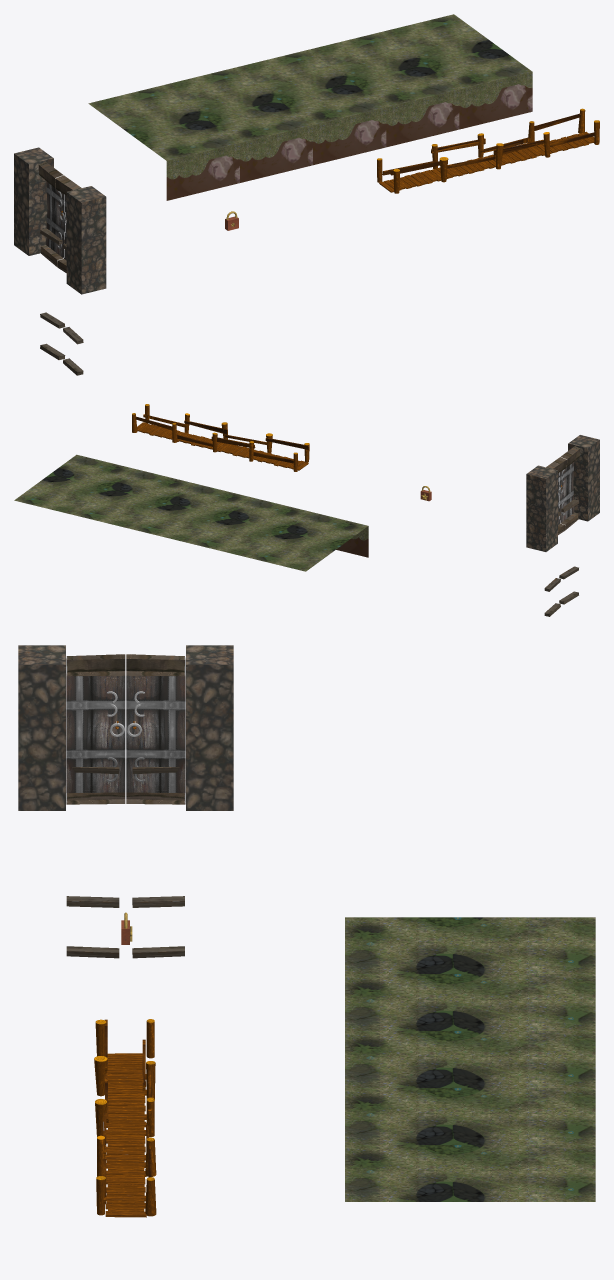
The model's file is door.fbx.
3 views of the same model, one above another, from view 1: azimuth 30°, elevation 25°; view 2: azimuth 150°, elevation 25°; view 3: azimuth 270°, elevation 25° (orthographic). The views are drawn at different scales.
Visible parts, largest first — view 1: ground5, ground1, ground4, ground3, ground2, pCube24, pCube30, polySurface24, polySurface37; view 2: ground1, ground5, ground3, ground2, ground4, pCube30, pCube24, polySurface37, polySurface24; view 3: ground5, ground3, ground4, ground2, ground1, polySurface37, polySurface24, pCube30, pCube24.
Part boxes in pixels (bbox=[...]): ground5: bbox=[381, 14, 532, 129]; ground1: bbox=[88, 85, 239, 200]; ground4: bbox=[308, 32, 459, 147]; ground3: bbox=[235, 50, 386, 165]; ground2: bbox=[162, 68, 312, 182]; pCube24: bbox=[66, 186, 106, 294]; pCube30: bbox=[14, 147, 53, 255]; polySurface24: bbox=[38, 161, 65, 267]; polySurface37: bbox=[55, 175, 81, 272]; ground1: bbox=[248, 511, 368, 571]; ground5: bbox=[14, 454, 134, 514]; ground3: bbox=[131, 483, 251, 542]; ground2: bbox=[189, 497, 309, 557]; ground4: bbox=[72, 469, 192, 528]; pCube30: bbox=[526, 465, 557, 551]; pCube24: bbox=[568, 435, 599, 521]; polySurface37: bbox=[559, 446, 580, 530]; polySurface24: bbox=[546, 457, 566, 534]; ground5: bbox=[345, 1145, 595, 1201]; ground3: bbox=[345, 1031, 595, 1087]; ground4: bbox=[345, 1088, 595, 1144]; ground2: bbox=[345, 974, 595, 1030]; ground1: bbox=[345, 917, 595, 973]; polySurface37: bbox=[66, 654, 125, 804]; polySurface24: bbox=[126, 654, 185, 804]; pCube30: bbox=[186, 645, 233, 810]; pCube24: bbox=[18, 645, 65, 810].
Size of the model in its own units: 164 by 52.93 by 92.93.
